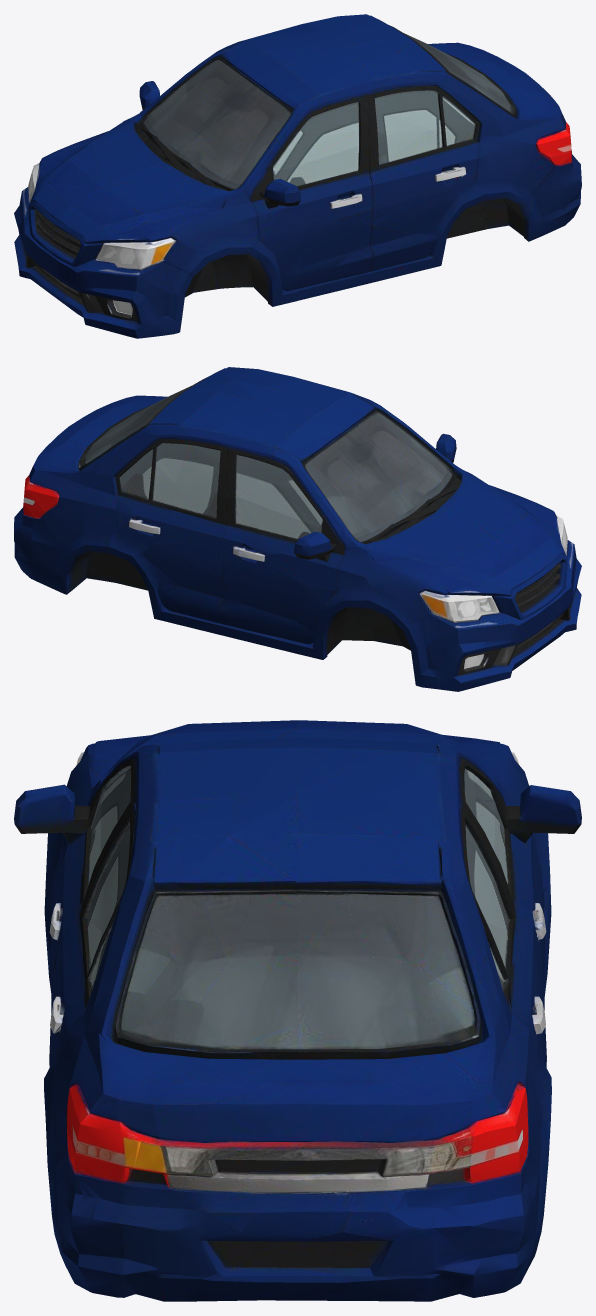
The model's file is sedan.glb.
The picture shows the model from 3 angles, top to bottom: view 1: azimuth 30°, elevation 25°; view 2: azimuth 150°, elevation 25°; view 3: azimuth 270°, elevation 25°; orthographic projection. The views are drawn at different scales.
Size of the model in its own units: 1.9 by 0.6776 by 0.9982.
1 material, 1 textured.
